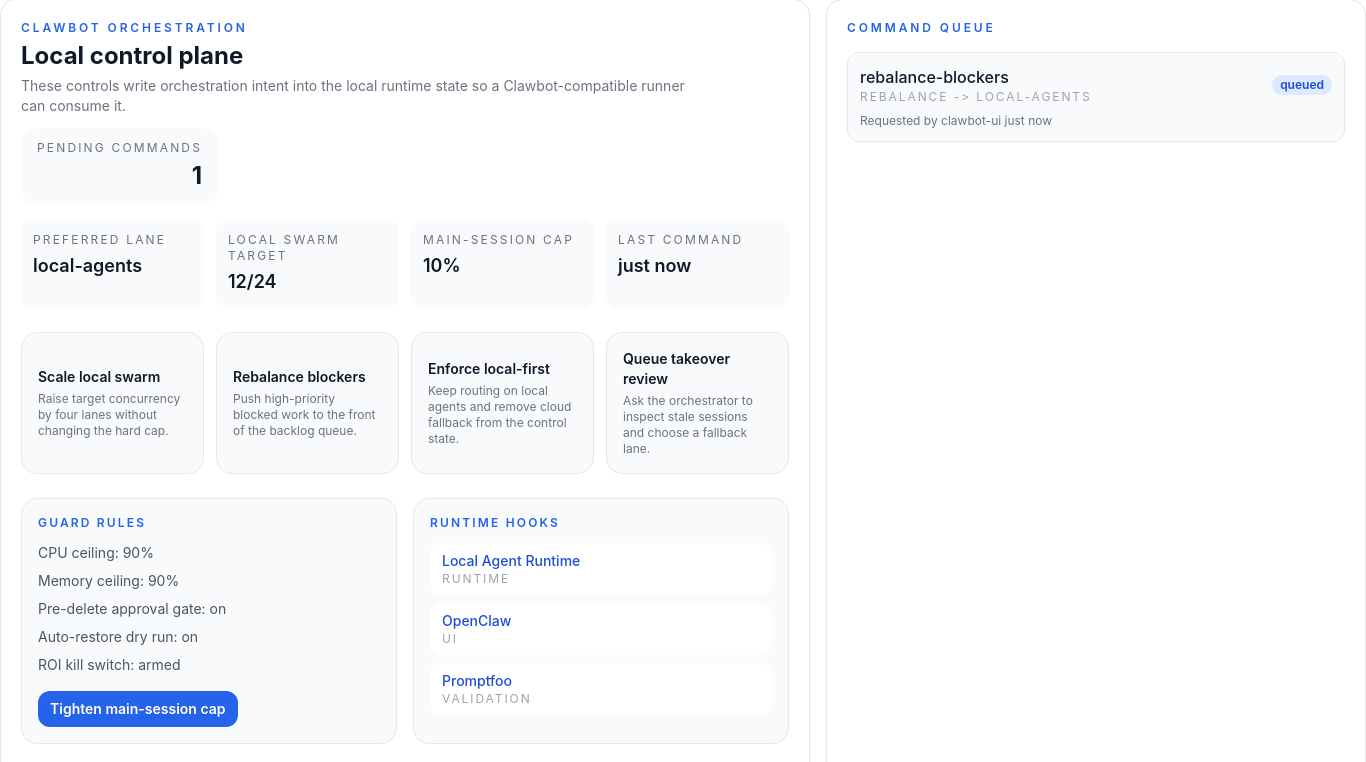
ClawbotControlPanel › queues a rebalance command from the control plane
Click the button "Rebalance blockers".
click(308, 403)  # box left=216, top=332, right=399, bottom=474
(page scrolled)
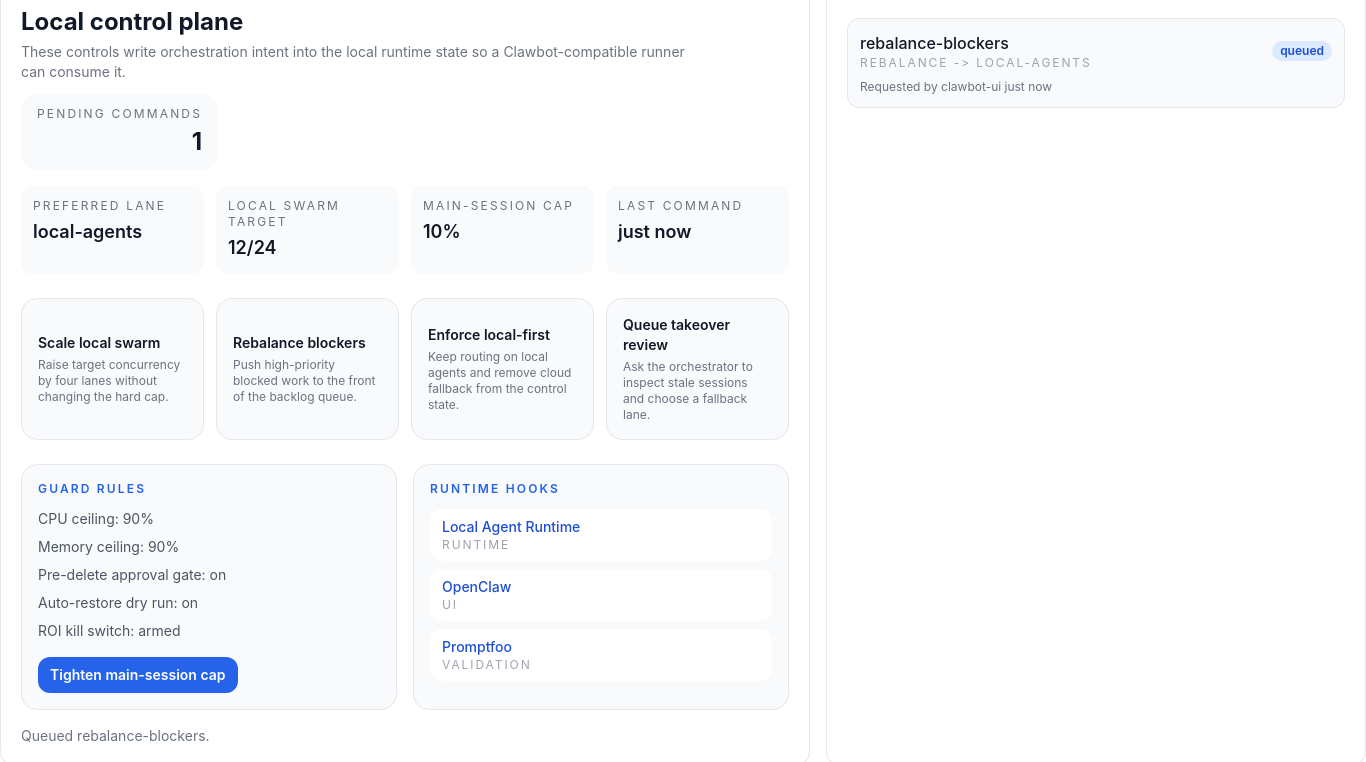
Expected: the text "Queued rebalance-blockers." is shown, left=21, top=727, right=210, bottom=744
